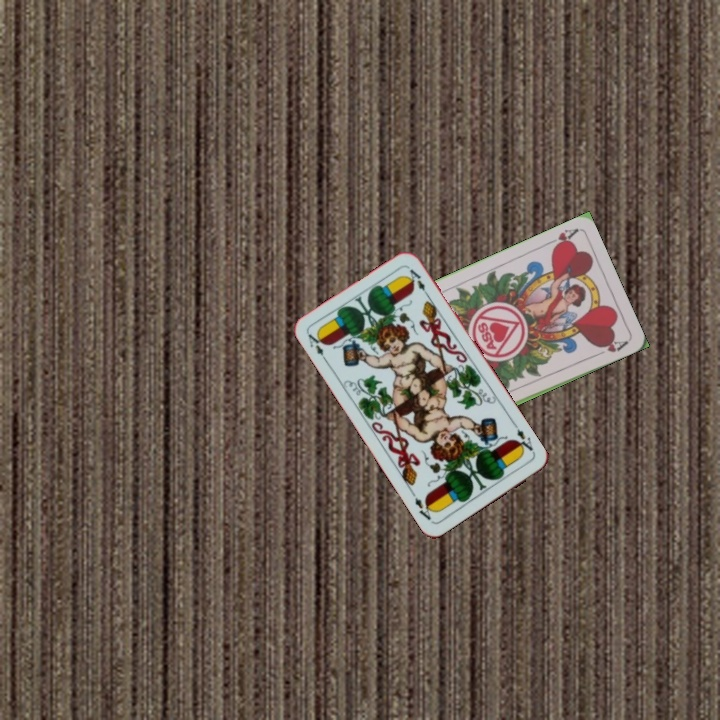EA: (304, 329, 331, 366), (510, 420, 537, 456)
HA: (542, 225, 580, 252)
